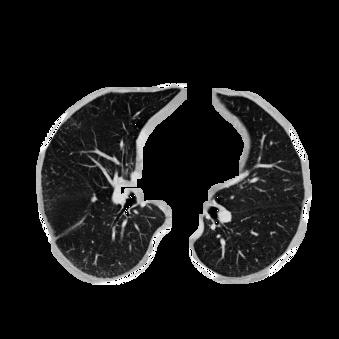PN: (91, 196, 97, 202)
